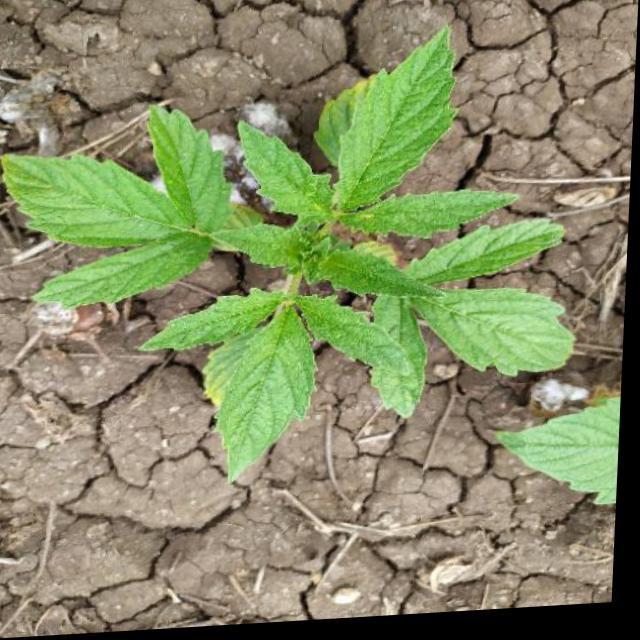crop: (0, 35, 594, 528)
